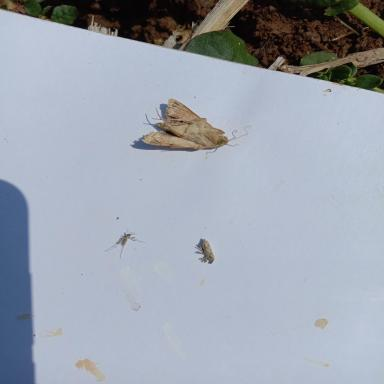abw: (140, 97, 252, 154)
